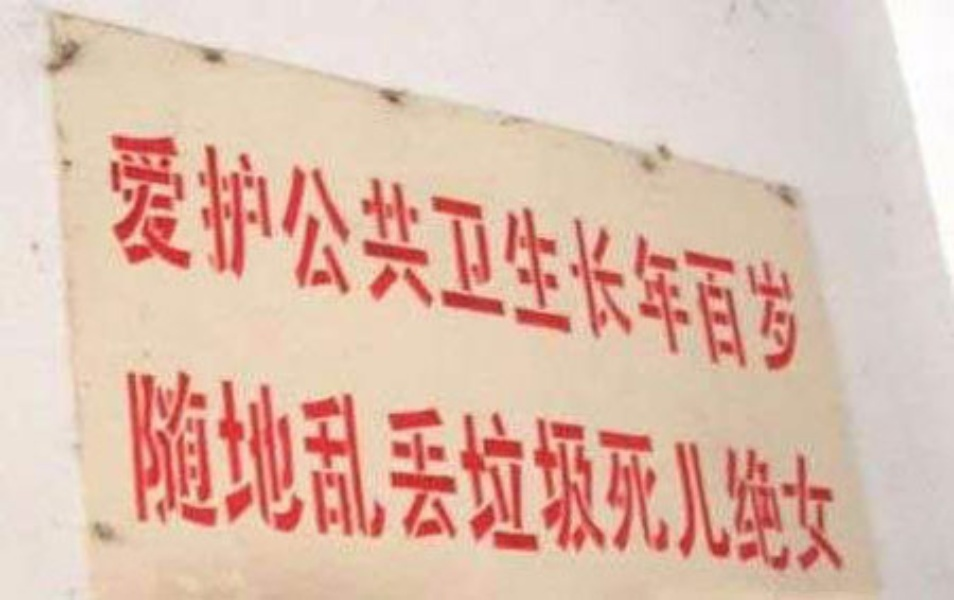text: (113, 119, 128, 374), (129, 119, 144, 374), (145, 119, 160, 374), (161, 119, 176, 374), (177, 119, 192, 374), (193, 119, 208, 374), (209, 119, 224, 374), (225, 119, 240, 374), (241, 119, 256, 374), (257, 119, 272, 374), (273, 119, 288, 374), (289, 119, 304, 374), (305, 119, 320, 374), (321, 119, 336, 374), (337, 119, 352, 374), (353, 119, 368, 374), (369, 119, 384, 374), (385, 119, 400, 374), (401, 119, 416, 374), (417, 119, 432, 374), (433, 119, 448, 374), (449, 119, 464, 374), (465, 119, 480, 374), (481, 119, 496, 374), (497, 119, 512, 374), (513, 119, 528, 374), (529, 119, 544, 374), (545, 119, 560, 374), (561, 119, 576, 374), (577, 119, 592, 374), (593, 119, 608, 374), (609, 119, 624, 374), (625, 119, 640, 374), (641, 119, 656, 374), (657, 119, 672, 374), (673, 119, 688, 374), (689, 119, 704, 374), (705, 119, 720, 374), (721, 119, 736, 374), (737, 119, 752, 374), (753, 119, 768, 374), (769, 119, 784, 374), (785, 119, 800, 374), (129, 365, 144, 581), (145, 365, 160, 581), (161, 365, 176, 581), (177, 365, 192, 581), (193, 365, 208, 581), (209, 365, 224, 581), (225, 365, 240, 581), (241, 365, 256, 581), (257, 365, 272, 581), (273, 365, 288, 581), (289, 365, 304, 581), (305, 365, 320, 581), (321, 365, 336, 581), (337, 365, 352, 581), (353, 365, 368, 581), (369, 365, 384, 581), (385, 365, 400, 581), (401, 365, 416, 581), (417, 365, 432, 581), (433, 365, 448, 581), (449, 365, 464, 581), (465, 365, 480, 581), (481, 365, 496, 581), (497, 365, 512, 581), (513, 365, 528, 581), (529, 365, 544, 581), (545, 365, 560, 581), (561, 365, 576, 581), (577, 365, 592, 581), (593, 365, 608, 581), (609, 365, 624, 581), (625, 365, 640, 581), (641, 365, 656, 581), (657, 365, 672, 581), (673, 365, 688, 581), (689, 365, 704, 581), (705, 365, 720, 581), (721, 365, 736, 581), (737, 365, 752, 581), (753, 365, 768, 581), (769, 365, 784, 581), (785, 365, 800, 581), (801, 365, 816, 581), (817, 365, 832, 581), (833, 365, 848, 581), (119, 365, 128, 581), (849, 365, 853, 581)
